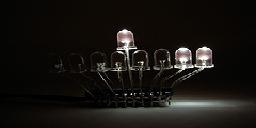LED: (171, 47, 191, 73), (114, 29, 134, 51), (68, 51, 85, 75)
